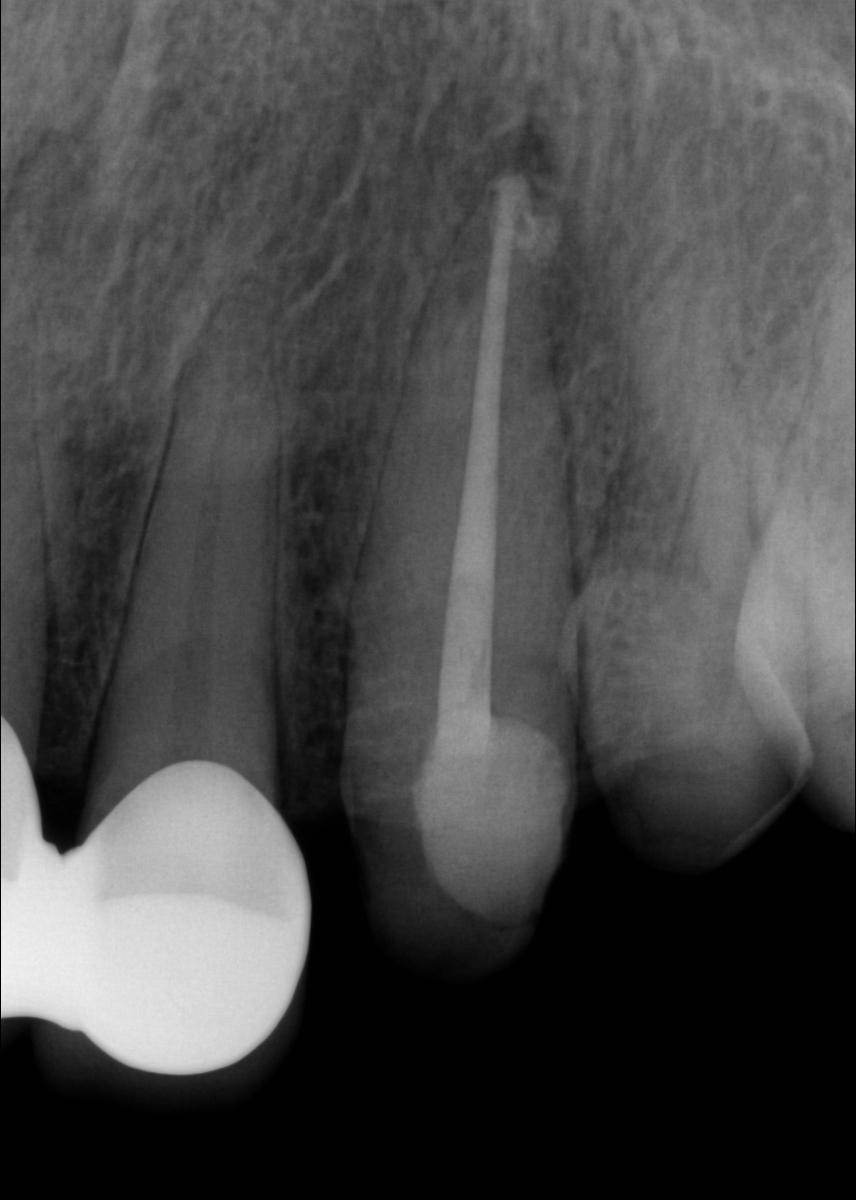Furcation Involvement: (450, 116, 563, 205)
